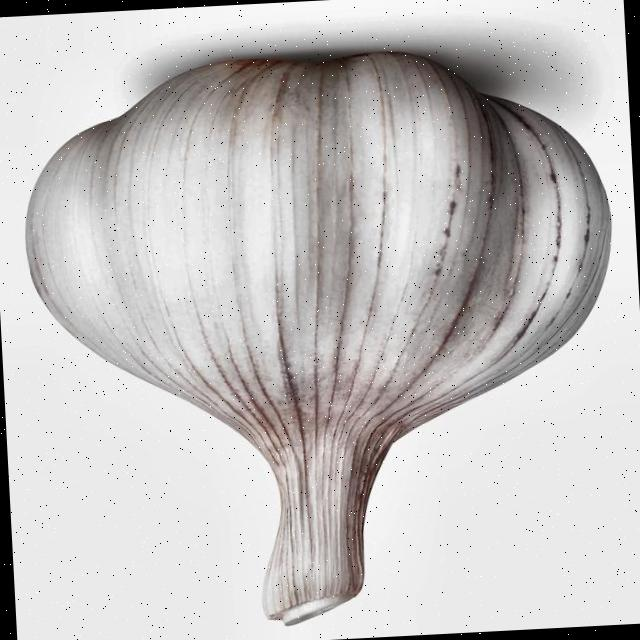garlic: (26, 52, 609, 623)
